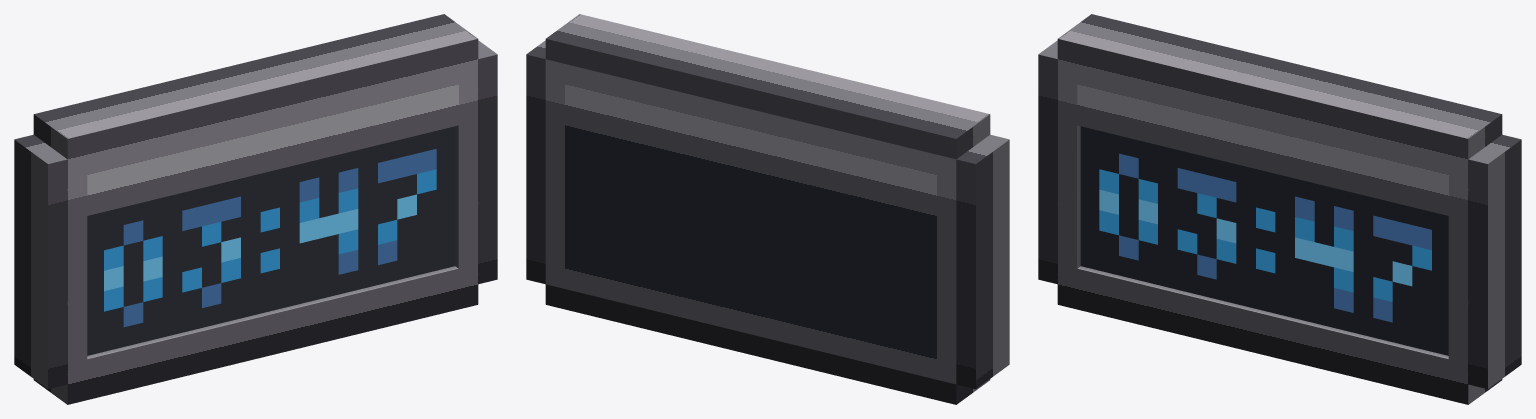
The model's file is digital_clock_0347.glb.
3 views of the same model, side by side, from view 1: azimuth 30°, elevation 25°; view 2: azimuth 150°, elevation 25°; view 3: azimuth 330°, elevation 25° (orthographic).
Parts seen in each view (by area): view 1: Continuous_Stepped_Housing, Closed_Tinted_Glass, Recessed_Display, Minutes_Tens_Overlay, Hours_Tens_Overlay, Hours_Ones_Overlay, Minutes_Ones_Overlay, Separator_Overlay; view 2: Continuous_Stepped_Housing; view 3: Continuous_Stepped_Housing, Closed_Tinted_Glass, Recessed_Display, Minutes_Tens_Overlay, Hours_Ones_Overlay, Hours_Tens_Overlay, Minutes_Ones_Overlay, Separator_Overlay.
Part boxes in pixels (x1,y1,x2,y2): Continuous_Stepped_Housing: [14, 14, 497, 404]; Closed_Tinted_Glass: [88, 126, 457, 356]; Recessed_Display: [87, 126, 455, 355]; Minutes_Tens_Overlay: [299, 168, 358, 274]; Hours_Tens_Overlay: [104, 220, 162, 327]; Hours_Ones_Overlay: [182, 196, 240, 308]; Minutes_Ones_Overlay: [378, 149, 436, 265]; Separator_Overlay: [260, 207, 279, 273]; Continuous_Stepped_Housing: [526, 14, 1009, 404]; Continuous_Stepped_Housing: [1038, 14, 1521, 404]; Closed_Tinted_Glass: [1078, 126, 1447, 357]; Recessed_Display: [1080, 126, 1448, 355]; Minutes_Tens_Overlay: [1295, 196, 1353, 312]; Hours_Ones_Overlay: [1177, 168, 1236, 279]; Hours_Tens_Overlay: [1099, 153, 1157, 260]; Minutes_Ones_Overlay: [1373, 215, 1431, 322]; Separator_Overlay: [1256, 207, 1275, 273].
Size of the model in its own units: 0.6469 by 0.3656 by 0.0844.
3 materials, 3 textured.
